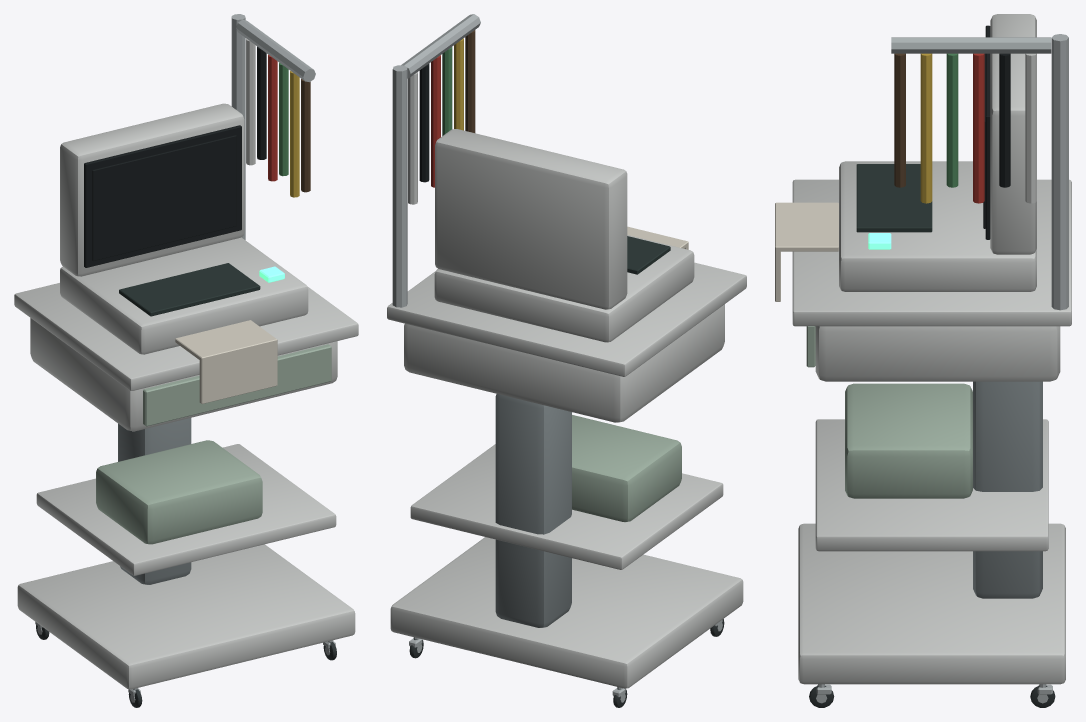
Rendered from ecg-machine.glb.
The picture shows the model from 3 angles, left to right: view 1: azimuth 30°, elevation 25°; view 2: azimuth 150°, elevation 25°; view 3: azimuth 270°, elevation 25°; orthographic projection. The views are drawn at different scales.
Parts seen in each view (by area): view 1: ecg-machine; view 2: ecg-machine; view 3: ecg-machine.
Boxes of the visible parts, x1,y1,x2,y2 form: ecg-machine: (14, 14, 358, 707); ecg-machine: (387, 14, 746, 707); ecg-machine: (775, 14, 1071, 707).
Bounding box in the file's own units: 0.54 × 1.28 × 0.51.
